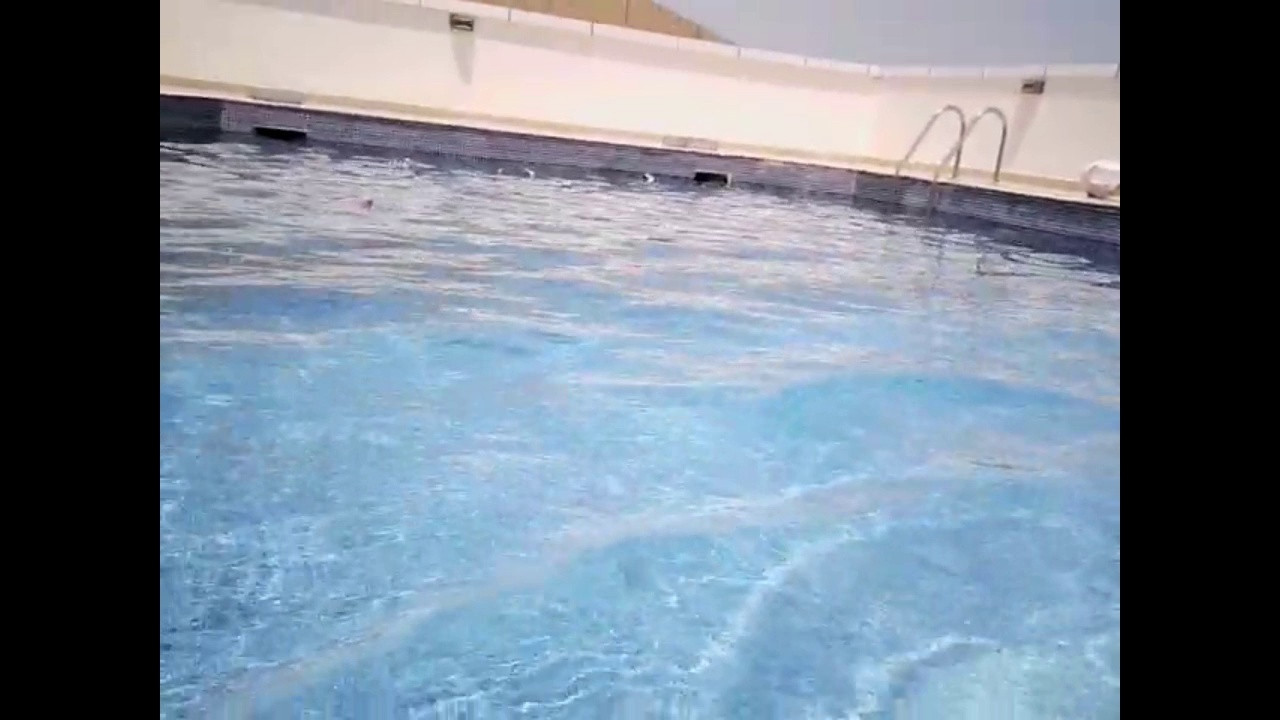debris: (358, 194, 378, 211), (641, 170, 658, 189), (518, 165, 536, 179)
